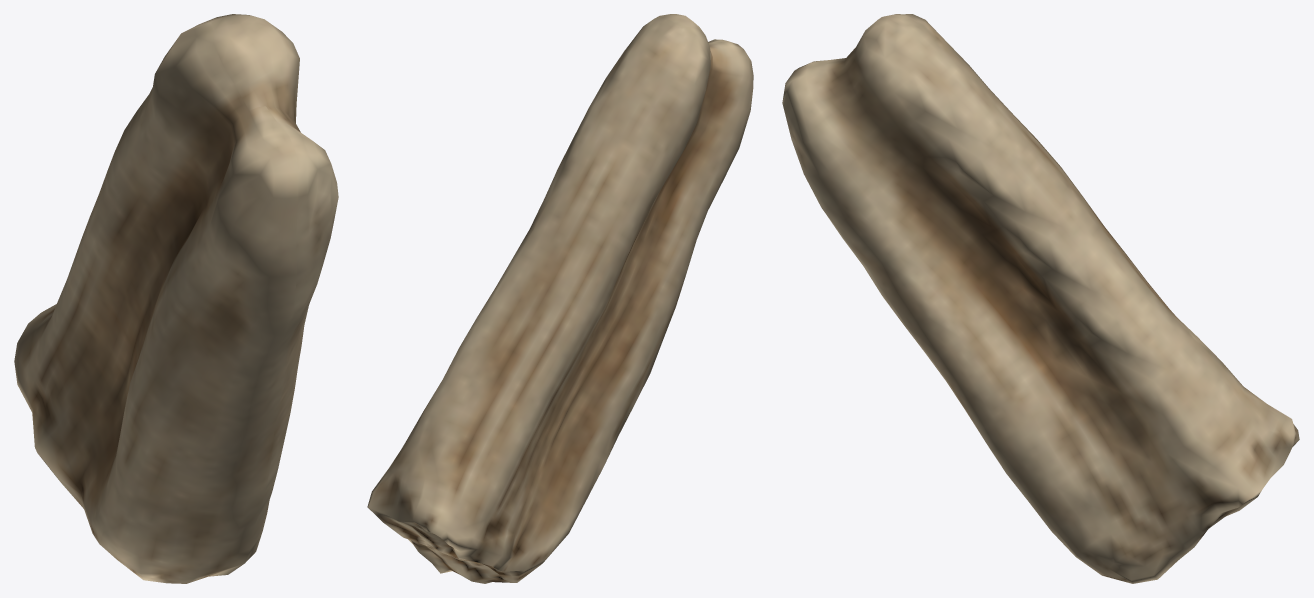
File: Maxilary_Molar3.glb
The picture shows the model from 3 angles, left to right: view 1: azimuth 30°, elevation 25°; view 2: azimuth 150°, elevation 25°; view 3: azimuth 270°, elevation 25°; orthographic projection. The views are drawn at different scales.
Visible parts, largest first — view 1: Maxilary_Molar3.glb; view 2: Maxilary_Molar3.glb; view 3: Maxilary_Molar3.glb.
Part boxes in pixels (left/top/right/bottom): Maxilary_Molar3.glb: left=14, top=14, right=338, bottom=583; Maxilary_Molar3.glb: left=367, top=14, right=753, bottom=583; Maxilary_Molar3.glb: left=782, top=14, right=1299, bottom=583.
Bounding box in the file's own units: 0.0277 × 0.0732 × 0.0666.
Materials: 1 (1 with a texture image).
